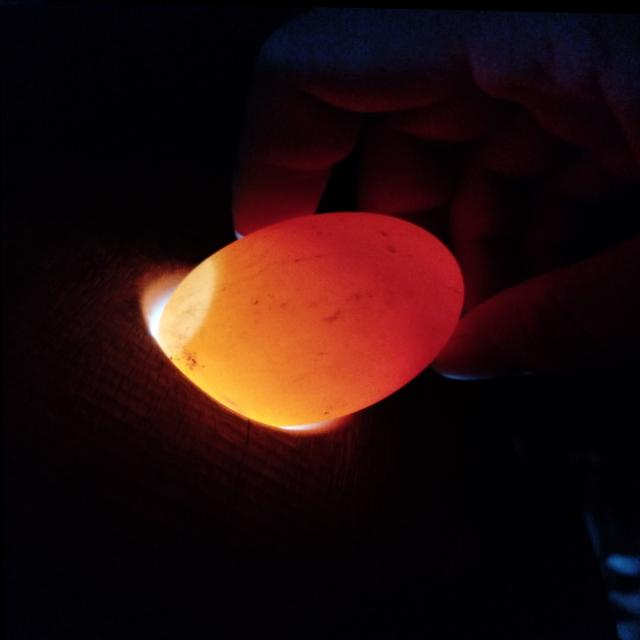Camara de Ar: (157, 256, 212, 355)
Gema Quebrada: (281, 211, 465, 361)
